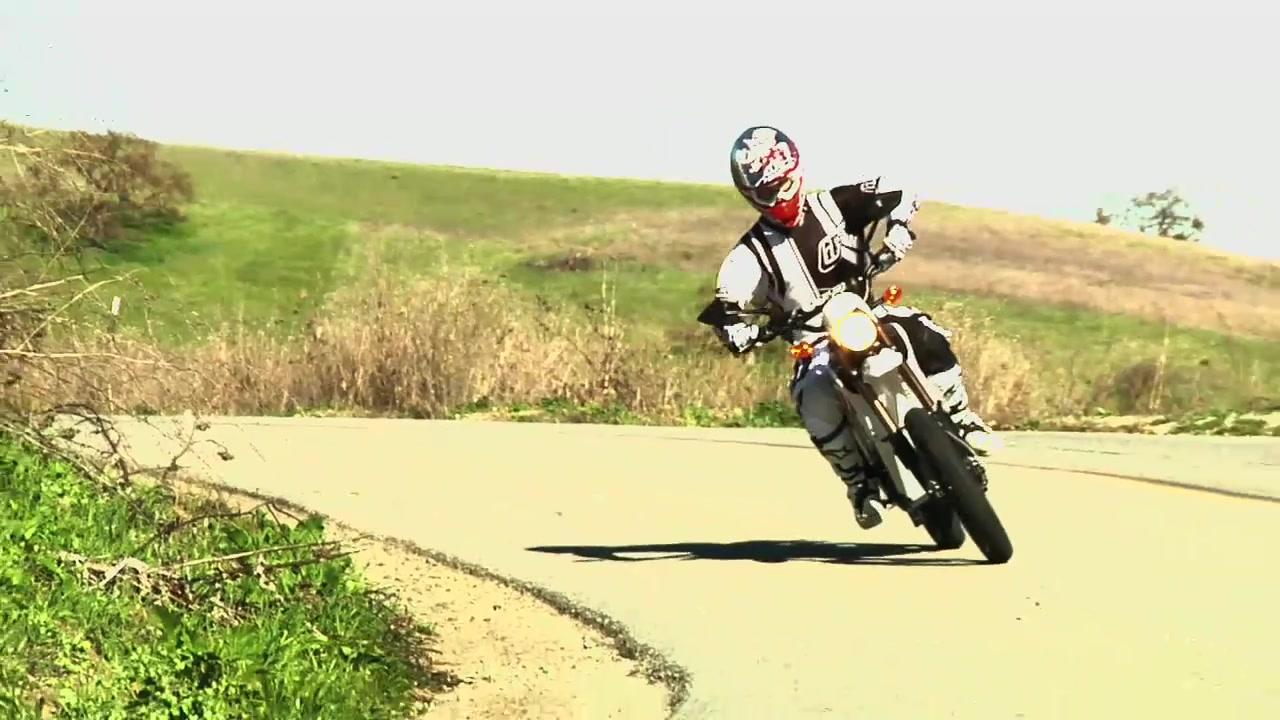motorbike: (698, 225, 1018, 560)
